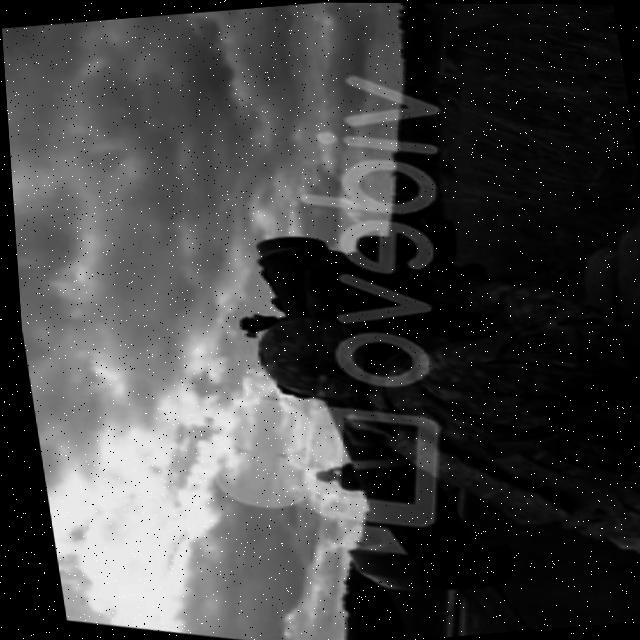rocket: (288, 378, 538, 616)
